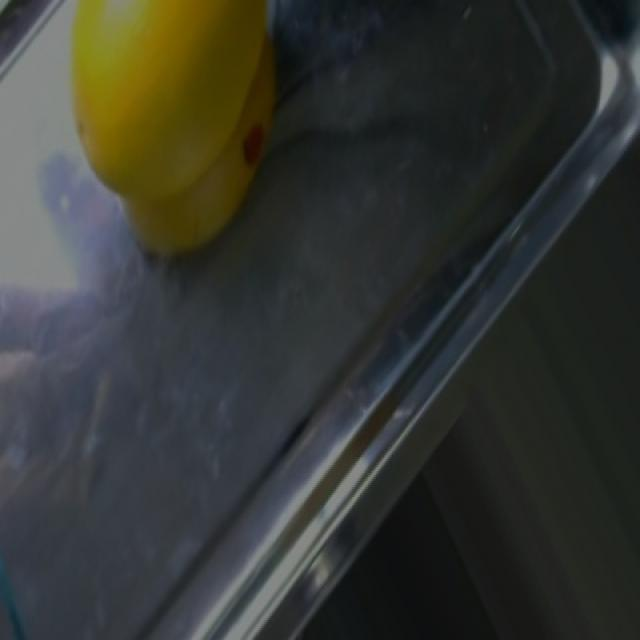Fruit: (41, 0, 291, 282)
